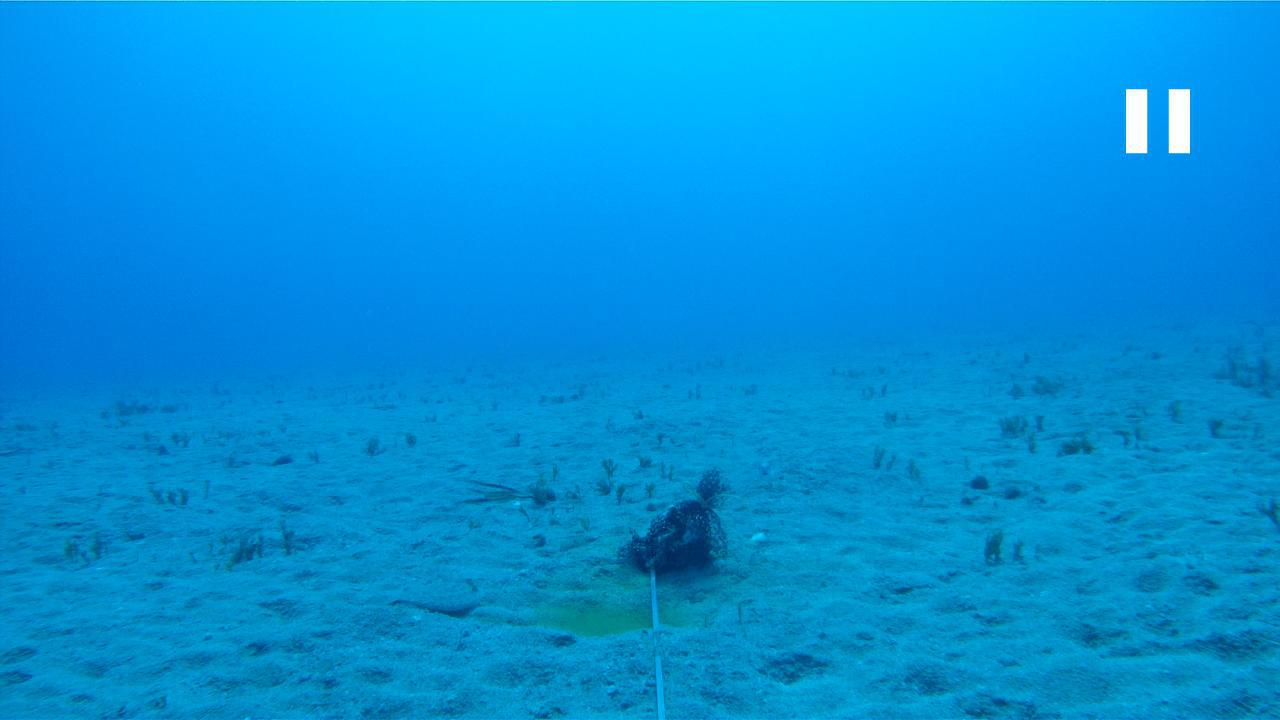bothus: (388, 570, 487, 608)
